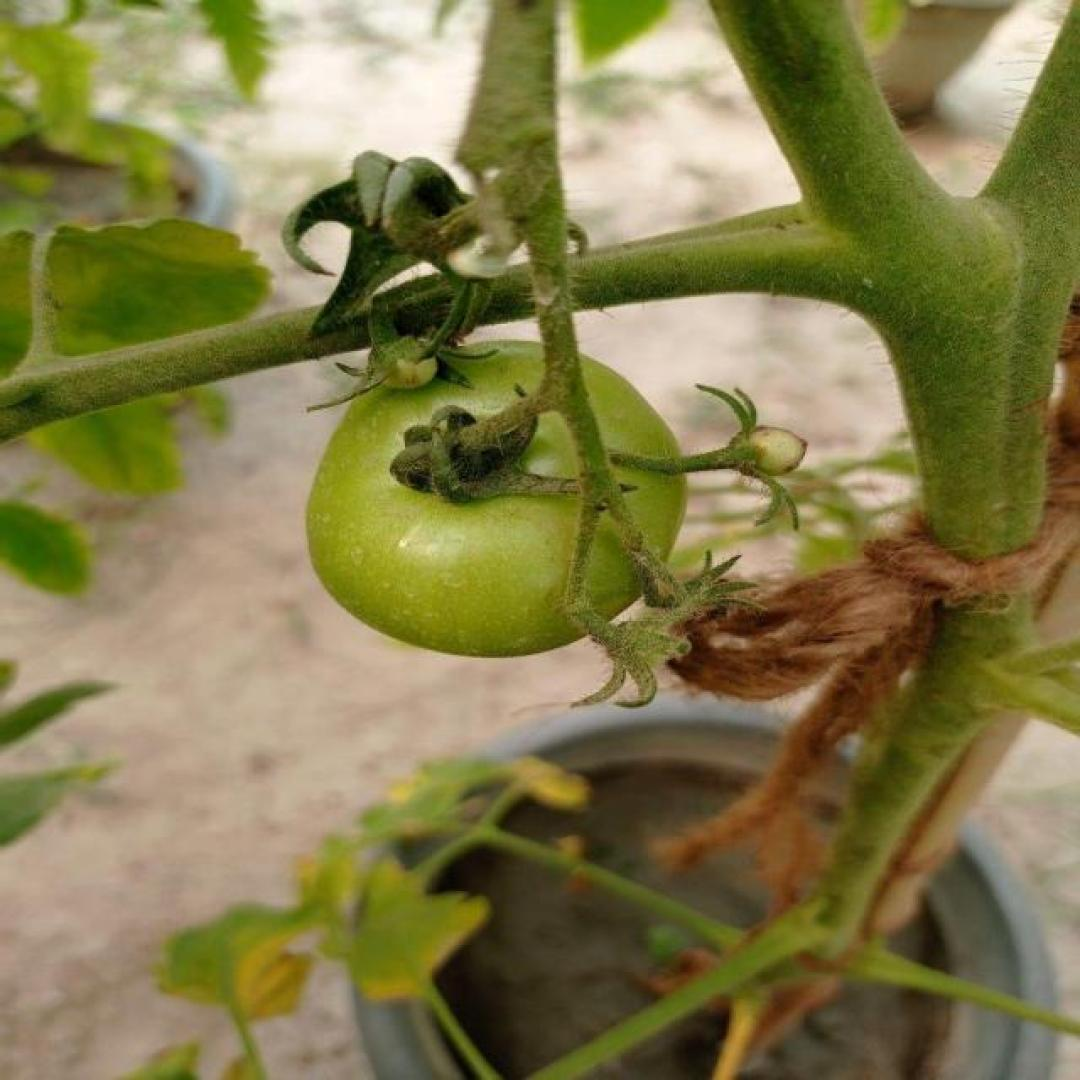mentah: (306, 336, 690, 658)
